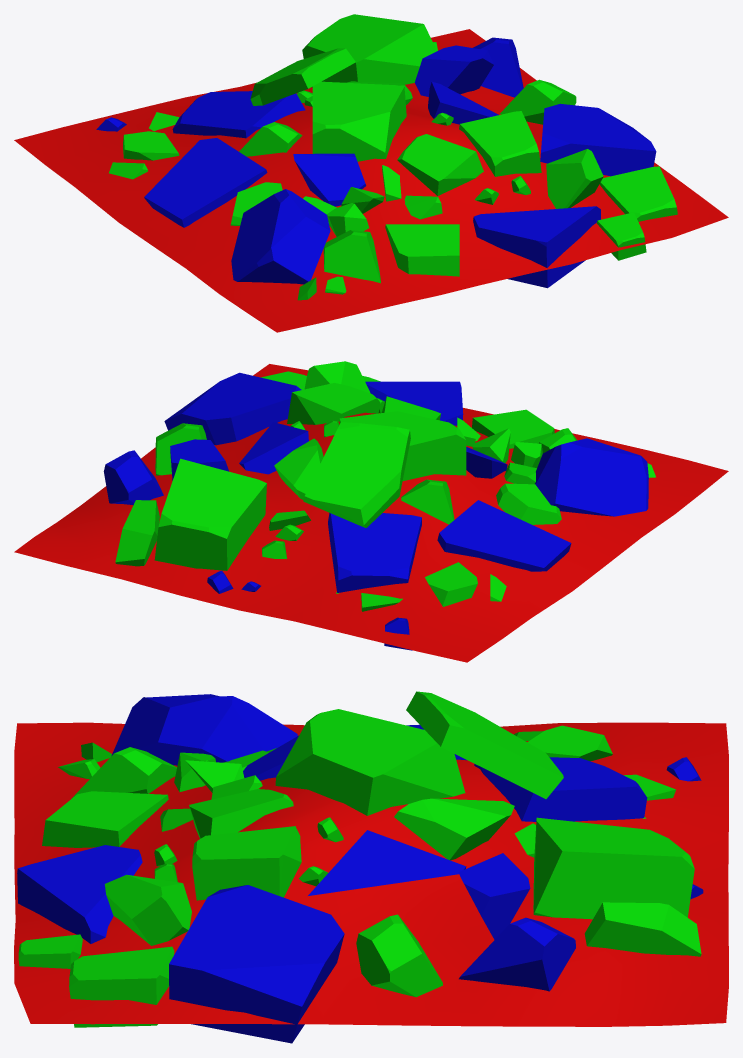
File: SM_Debris_Floor01.FBX
3 renders of one model, top to bottom at view 1: azimuth 30°, elevation 25°; view 2: azimuth 150°, elevation 25°; view 3: azimuth 270°, elevation 25°, orthographic. The views are drawn at different scales.
Visible parts, largest first — view 1: Base_Debris_Floor; view 2: Base_Debris_Floor; view 3: Base_Debris_Floor.
Boxes of the visible parts, bbox=[...] form: Base_Debris_Floor: bbox=[14, 14, 728, 332]; Base_Debris_Floor: bbox=[14, 361, 728, 662]; Base_Debris_Floor: bbox=[14, 691, 728, 1043].
Bounding box in the file's own units: 568 × 563 × 175.
